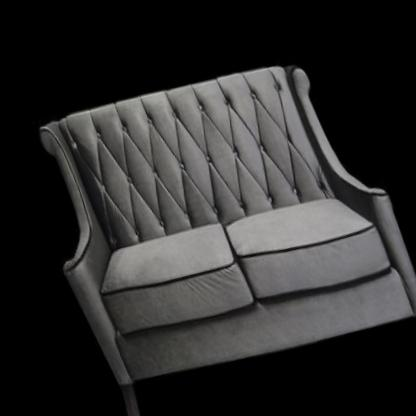Sofa: (0, 3, 416, 416)
